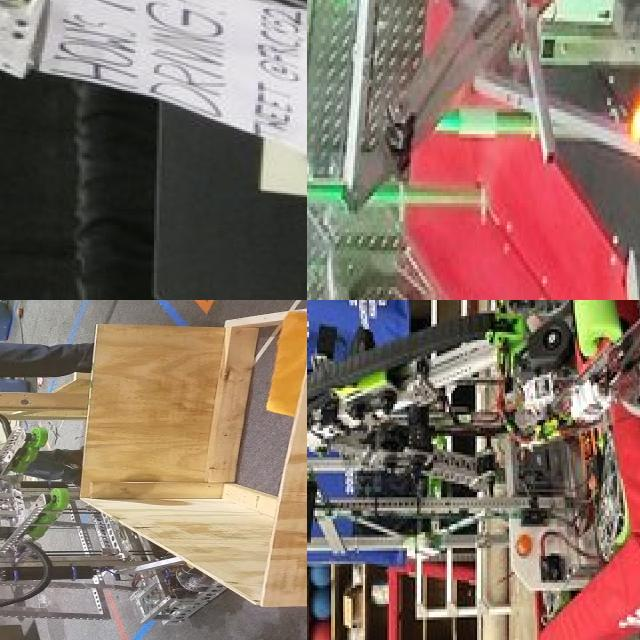FRC-Robots: (307, 300, 640, 640), (326, 0, 640, 300), (0, 0, 307, 300), (0, 414, 252, 632)
